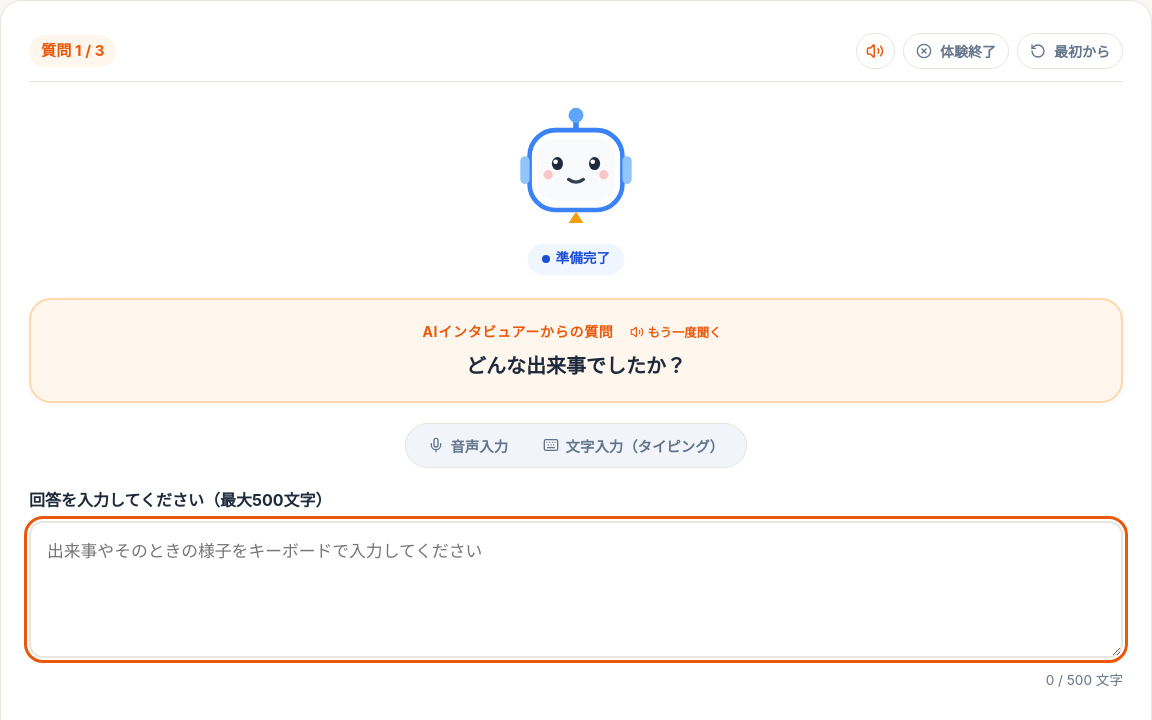
Test: UIコンポーネントテスト › 一人用インタビュー画面: 文字入力モードで内容クリアボタンをクリックすると入力内容が消去される
Type "誤った回答テスト" into the text box.
click(576, 590); type("誤った回答テスト")  # box top-left (29, 522), bottom-right (1123, 658)
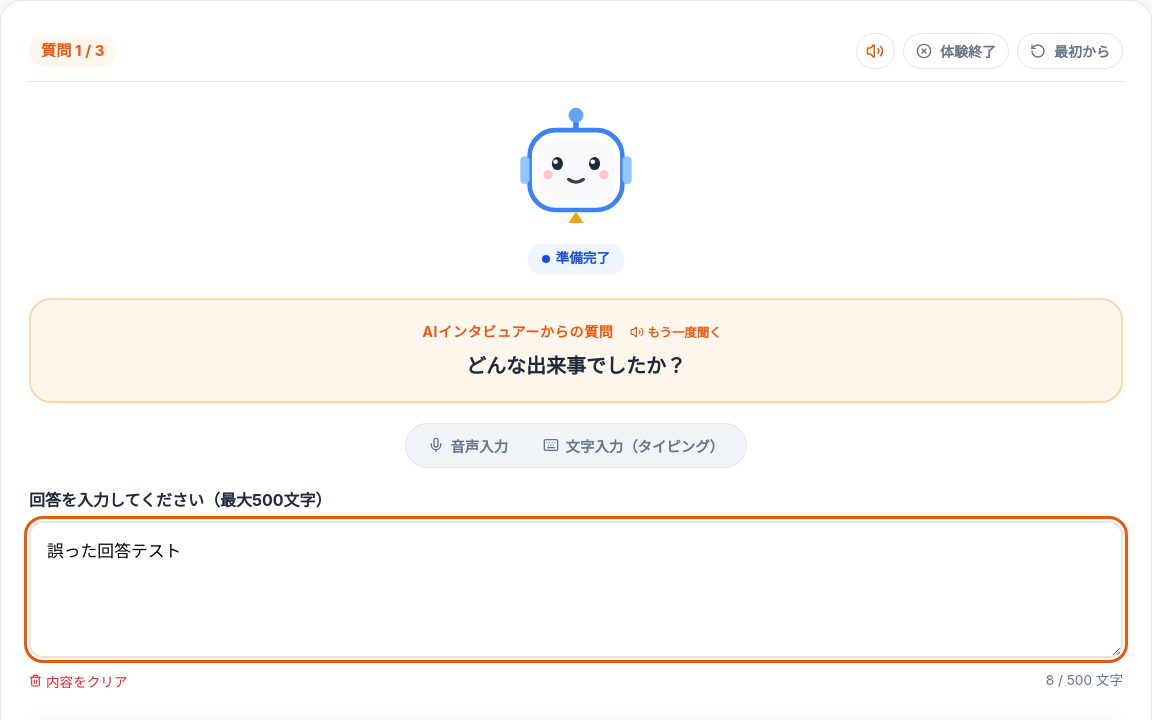
Result: the button "内容をクリア" is shown
Note:  クリックで消去
Click the button "内容をクリア".
click(78, 681)  # box top-left (29, 671), bottom-right (128, 691)
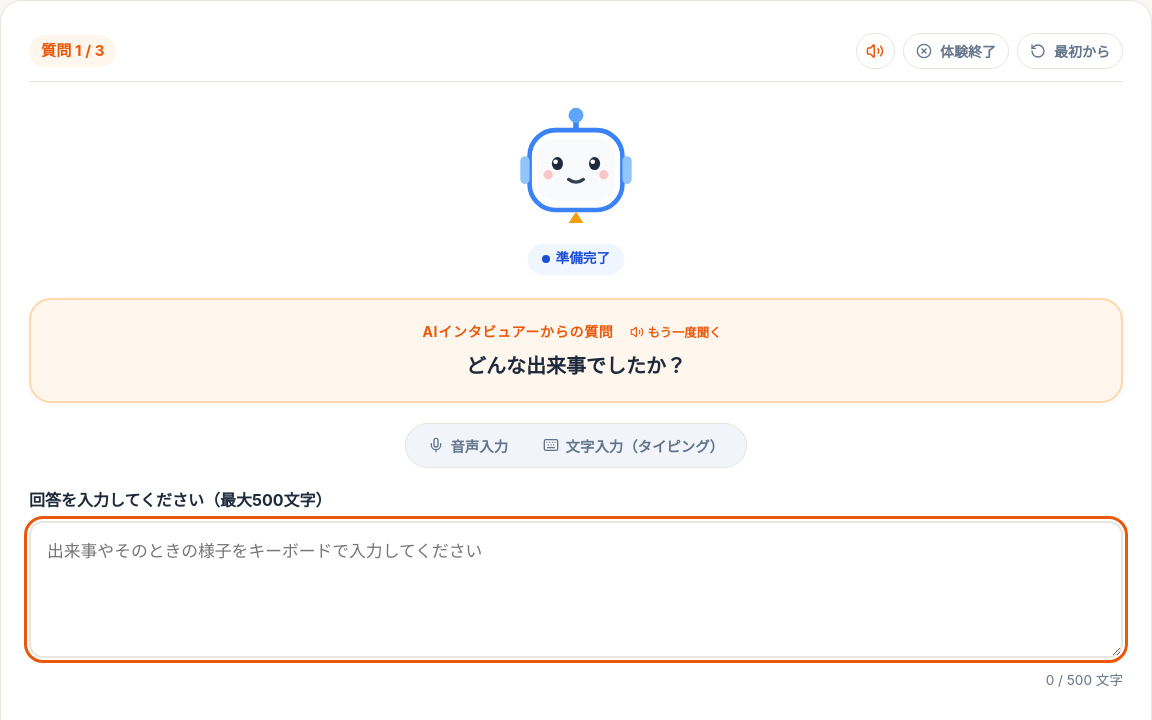
Result: the text box is empty at top-left (29, 522), bottom-right (1123, 658)
Result: the button "内容をクリア" is gone
